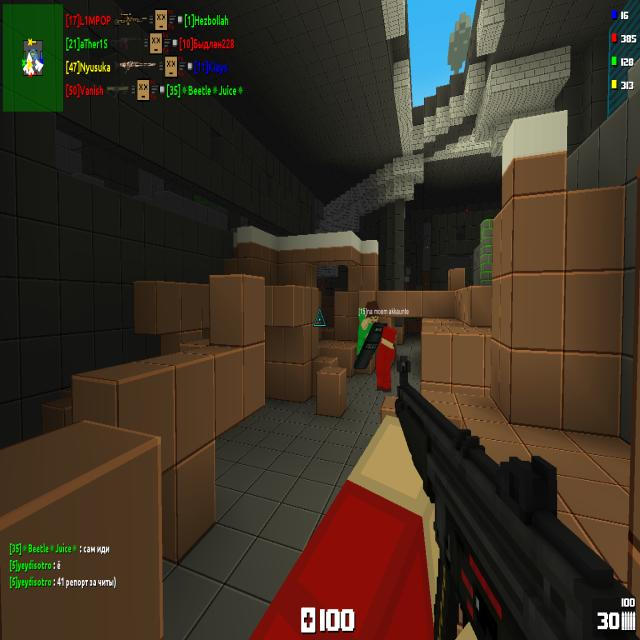enemy: (357, 300, 379, 361)
